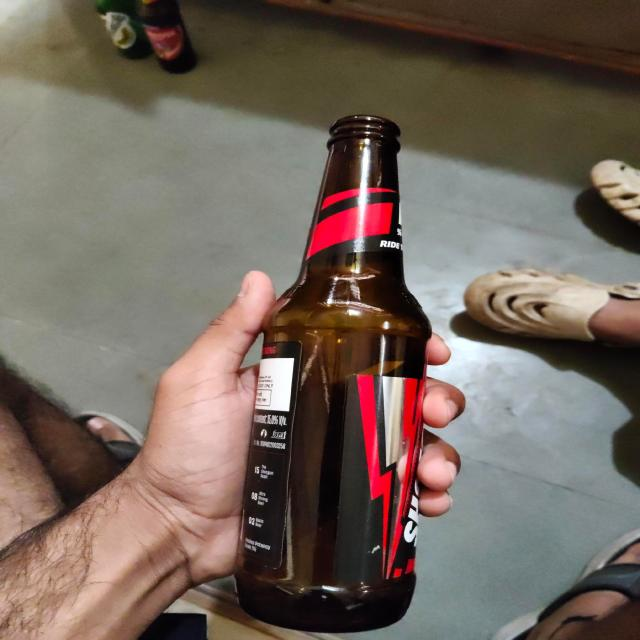Alcohol-Bottle-Detection: (247, 108, 430, 628)
